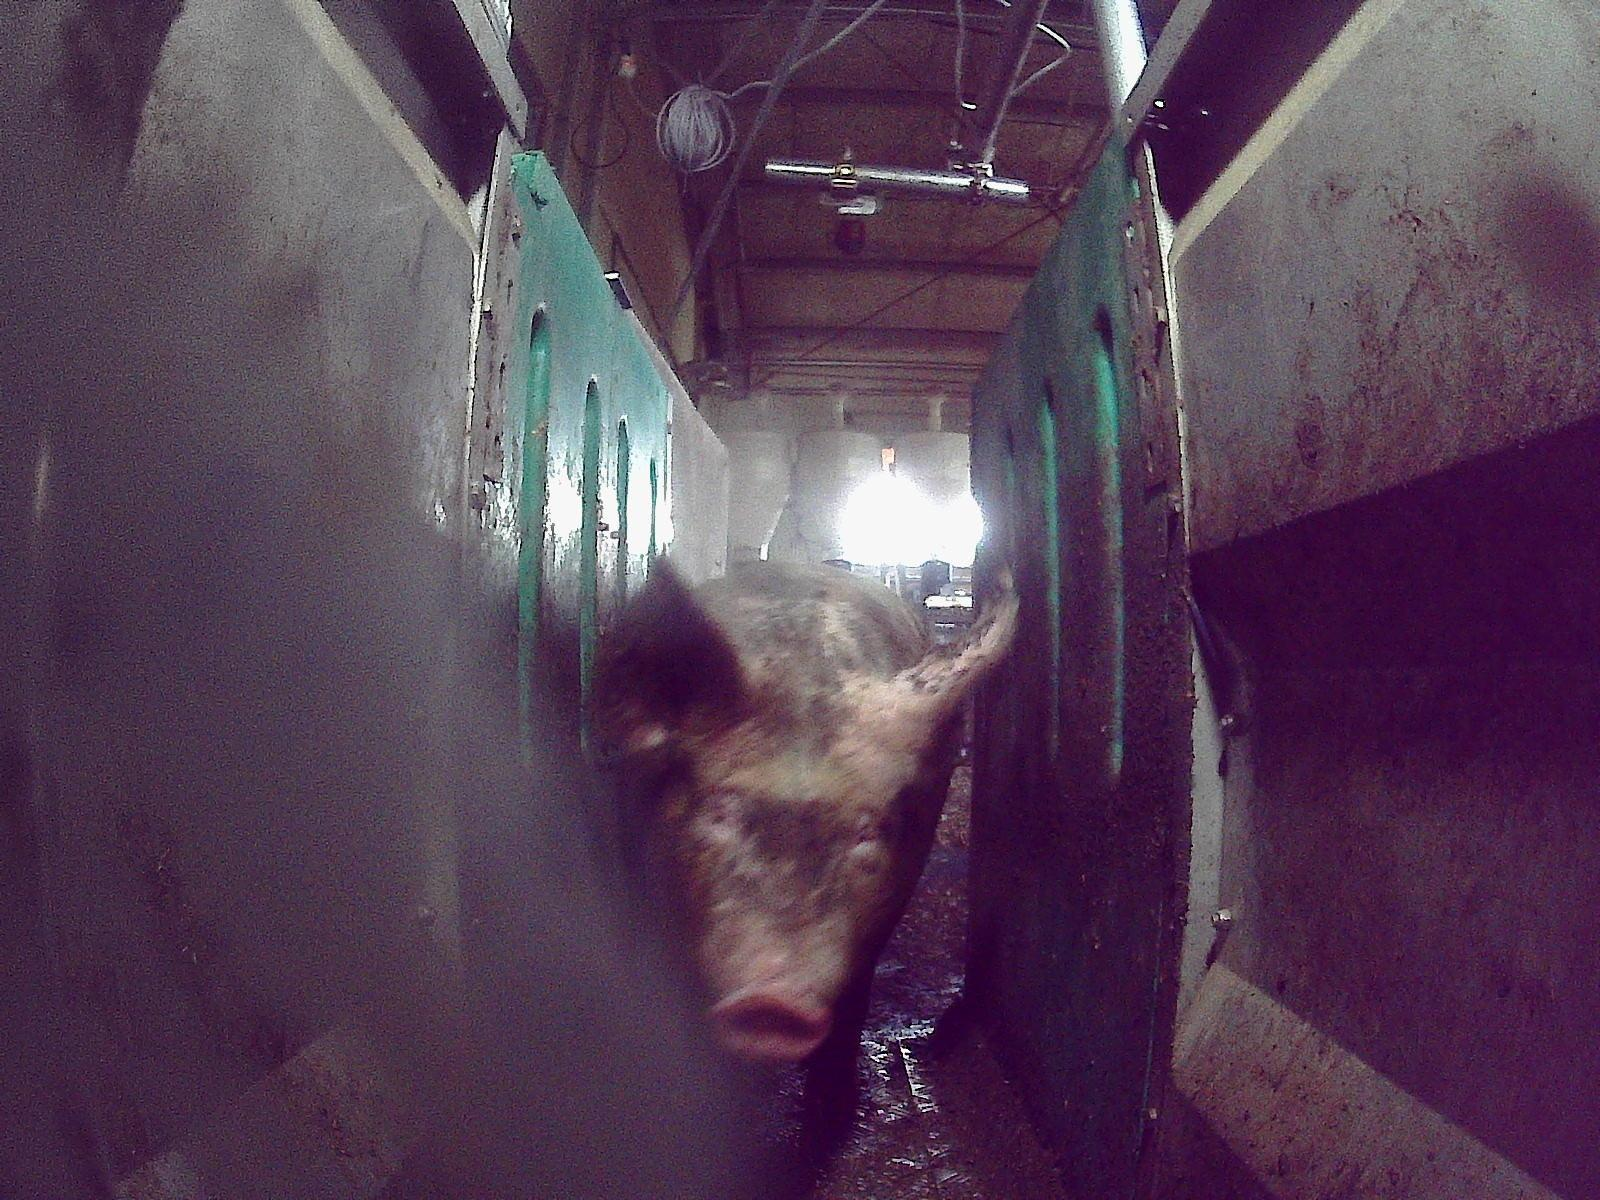Face: (658, 671, 894, 1065)
